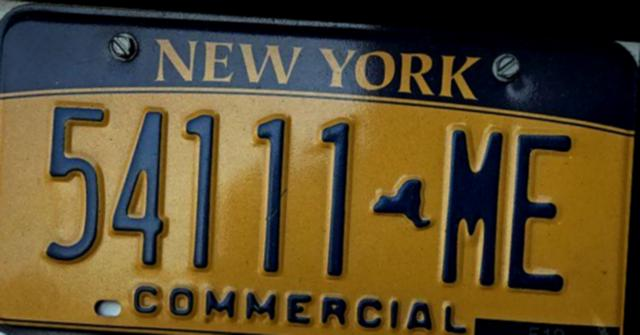License_Plate: (0, 9, 634, 335)
